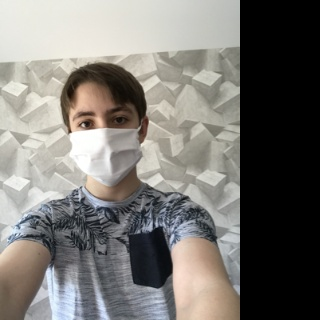with_mask: (68, 101, 143, 187)
